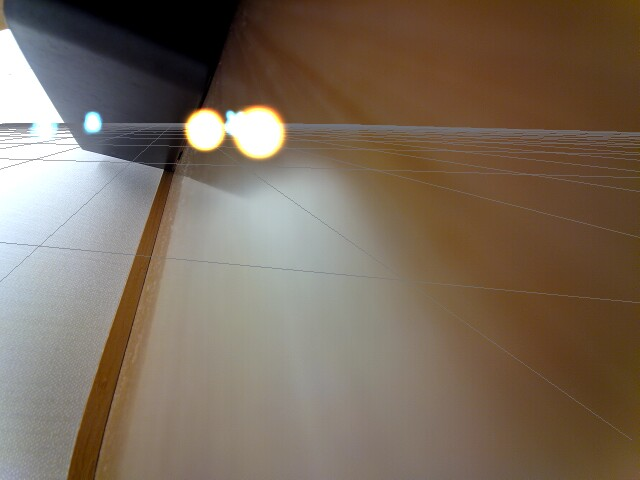firebig: (231, 103, 292, 162)
